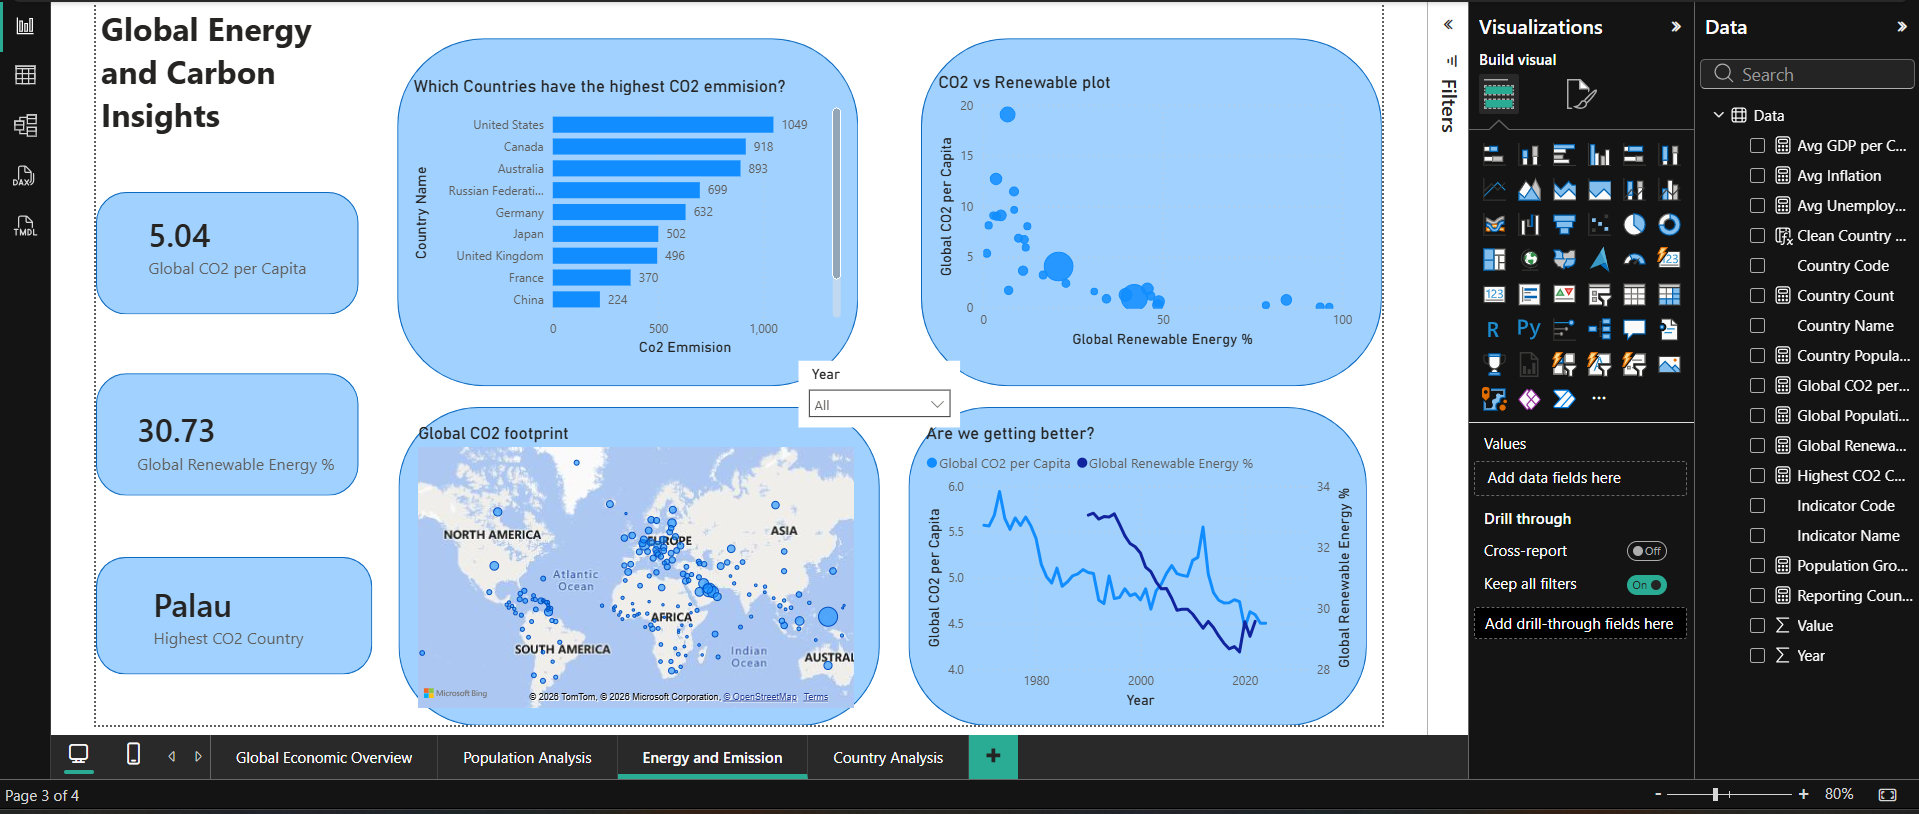

This screenshot's page, from the dashboard's own definition file:
{"tool":"powerbi","page":{"name":"Energy and Emission","canvas":[1280,720],"ordinal":2},"visuals":[{"type":"group","id":"g1","title":"Group 1","box":[0,36.1,1280.3,683.7],"z":0},{"type":"shape","box":[299.5,36.1,458.8,346.3],"z":0,"group":"g1"},{"type":"shape","box":[821.5,36.1,458.8,346.3],"z":1000,"group":"g1"},{"type":"slicer","fields":{"Values":["Data.Year"]},"box":[37.9,73.3,223.7,72],"z":1000},{"type":"textbox","box":[0,0,261.2,166.7],"z":2000},{"type":"shape","box":[300.8,402.6,479,317.2],"z":2000,"group":"g1"},{"type":"cardVisual","fields":{"Data":["Data.Global CO2 per Capita"]},"box":[11.2,166.7,299.8,150.5],"z":3000},{"type":"shape","box":[808.8,402.6,456.2,317.2],"z":3000,"group":"g1"},{"type":"clusteredBarChart","title":"Which Countries have the highest CO2 emmision?","fields":{"Y":["Sum(Data.Value)"],"Category":["Data.Clean Country Name"]},"box":[311,73.4,435.4,283.6],"z":4000},{"type":"shape","box":[0,189,261.2,121.9],"z":4000,"group":"g1"},{"type":"scatterChart","title":"CO2 vs Renewable plot","fields":{"Category":["Data.Clean Country Name"],"Y":["Data.Global CO2 per Capita"],"Size":["Sum(Data.Value)"],"X":["Data.Global Renewable Energy %"]},"box":[833.5,69.7,421.7,278.6],"z":5000},{"type":"shape","box":[0,369.4,261.2,121.9],"z":5000,"group":"g1"},{"type":"map","title":"Global CO2 footprint","fields":{"Category":["Data.Clean Country Name"],"Size":["Sum(Data.Value)"]},"box":[316,419.2,442.8,288.6],"z":6000},{"type":"shape","box":[0,552.3,274.9,116.9],"z":6000,"group":"g1"},{"type":"lineChart","title":"Are we getting better?","fields":{"Category":["Data.Year"],"Y":["Data.Global CO2 per Capita"],"Y2":["Data.Global Renewable Energy %"]},"box":[821,419.2,434.1,288.6],"z":7000},{"type":"cardVisual","fields":{"Data":["Data.Global Renewable Energy %"]},"box":[0,360.7,299.1,151],"z":8000},{"type":"cardVisual","fields":{"Data":["Data.Highest CO2 Country"]},"box":[16.2,534.9,299.8,150.5],"z":9000},{"type":"slicer","fields":{"Values":["Data.Year"]},"box":[698.8,356.4,161,66.4],"z":10000}]}

Visuals, with their boxes on the page's 1280x720 design canvas (x1, y1, x2, y2). These are canvas units, not pixel positions in the 1919x814 screenshot, which may show the page scaled, cropped or inside an application window:
"Group 1" group: (0, 36, 1280, 720)
shape: (300, 36, 758, 382)
shape: (822, 36, 1280, 382)
slicer - Data.Year: (38, 73, 262, 145)
textbox: (0, 0, 261, 167)
shape: (301, 403, 780, 720)
cardVisual - Data.Global CO2 per Capita: (11, 167, 311, 317)
shape: (809, 403, 1265, 720)
"Which Countries have the highest CO2 emmision?" clusteredBarChart: (311, 73, 746, 357)
shape: (0, 189, 261, 311)
"CO2 vs Renewable plot" scatterChart: (834, 70, 1255, 348)
shape: (0, 369, 261, 491)
"Global CO2 footprint" map: (316, 419, 759, 708)
shape: (0, 552, 275, 669)
"Are we getting better?" lineChart: (821, 419, 1255, 708)
cardVisual - Data.Global Renewable Energy %: (0, 361, 299, 512)
cardVisual - Data.Highest CO2 Country: (16, 535, 316, 685)
slicer - Data.Year: (699, 356, 860, 423)
